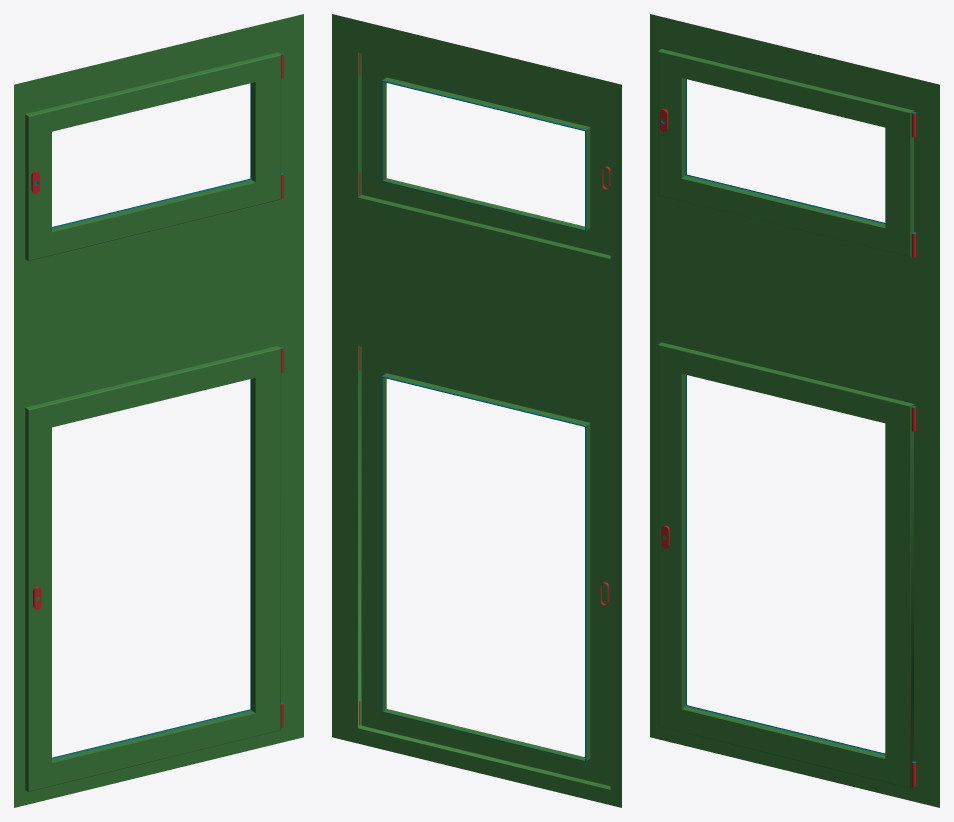
Rendered from SM_Window_02.fbx.
3 views of the same model, side by side, from view 1: azimuth 30°, elevation 25°; view 2: azimuth 150°, elevation 25°; view 3: azimuth 330°, elevation 25° (orthographic).
Visible parts, largest first — view 1: SM_Window_02; view 2: SM_Window_02; view 3: SM_Window_02.
Part boxes in pixels (box(x1,y1,x2,y2)): SM_Window_02: box(14, 14, 303, 807); SM_Window_02: box(332, 14, 621, 807); SM_Window_02: box(650, 14, 939, 807).
Size of the model in its own units: 106 by 252 by 3.85.
